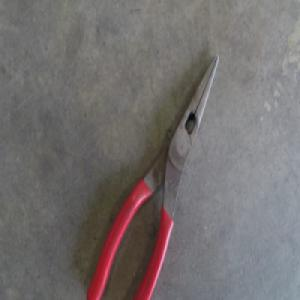Pliers: (84, 55, 220, 299)
